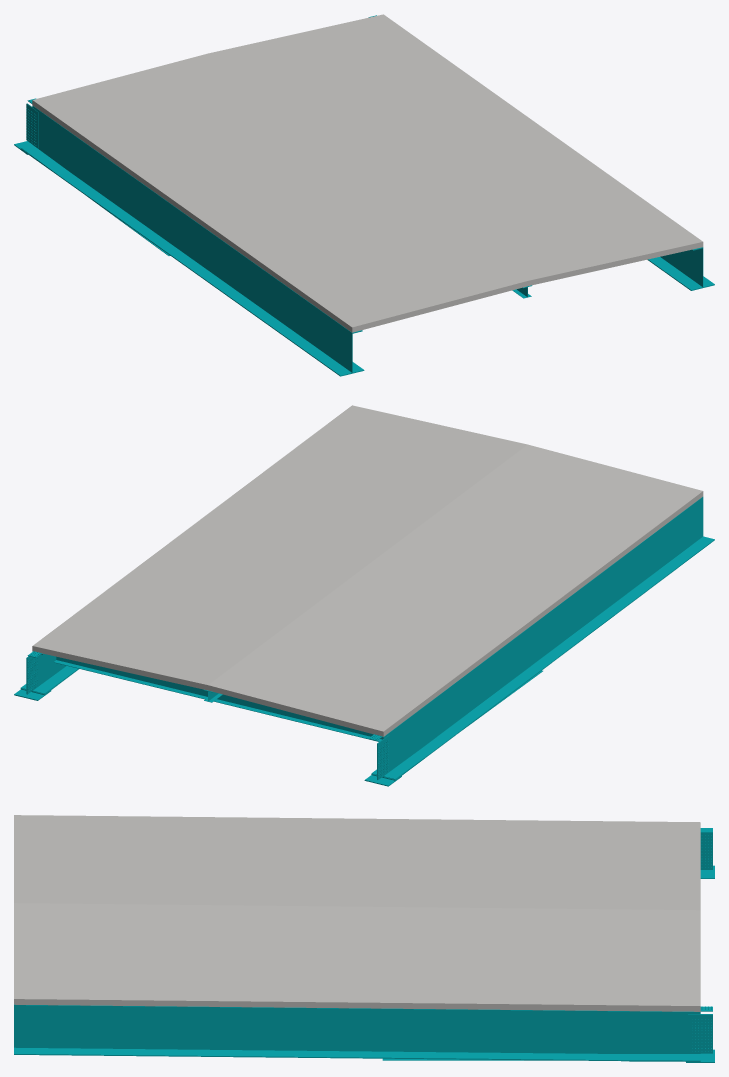
File: DECK_SHP.glb
The picture shows the model from 3 angles, top to bottom: view 1: azimuth 30°, elevation 25°; view 2: azimuth 150°, elevation 25°; view 3: azimuth 270°, elevation 25°; orthographic projection. The views are drawn at different scales.
Parts seen in each view (by area): view 1: SHP_Slab_35, SHP_G_W_0, SHP_G_E_1, SHP_BF60_2; view 2: SHP_Slab_35, SHP_G_W_0, SHP_FB_web_5, SHP_FB_bf_8, SHP_BF60_2, SHP_G_E_1; view 3: SHP_Slab_35, SHP_G_E_1, SHP_SpliceW_46, SHP_BF60_3, SHP_SpliceW_38.
Part boxes in pixels (box(x1,y1,x2,y2)): SHP_Slab_35: box(32, 14, 703, 332); SHP_G_W_0: box(20, 105, 364, 376); SHP_G_E_1: box(647, 247, 714, 290); SHP_BF60_2: box(21, 144, 170, 255); SHP_Slab_35: box(32, 405, 703, 736); SHP_G_W_0: box(371, 497, 714, 780); SHP_FB_web_5: box(56, 656, 383, 739); SHP_FB_bf_8: box(53, 660, 381, 741); SHP_BF60_2: box(371, 670, 542, 779); SHP_G_E_1: box(20, 651, 78, 694); SHP_Slab_35: box(14, 815, 700, 1011); SHP_G_E_1: box(14, 1004, 700, 1061); SHP_SpliceW_46: box(688, 1014, 712, 1053); SHP_BF60_3: box(382, 1054, 700, 1060); SHP_SpliceW_38: box(700, 833, 712, 869).
Bounding box in the file's own units: 18.26 × 2.7 × 27.57.
